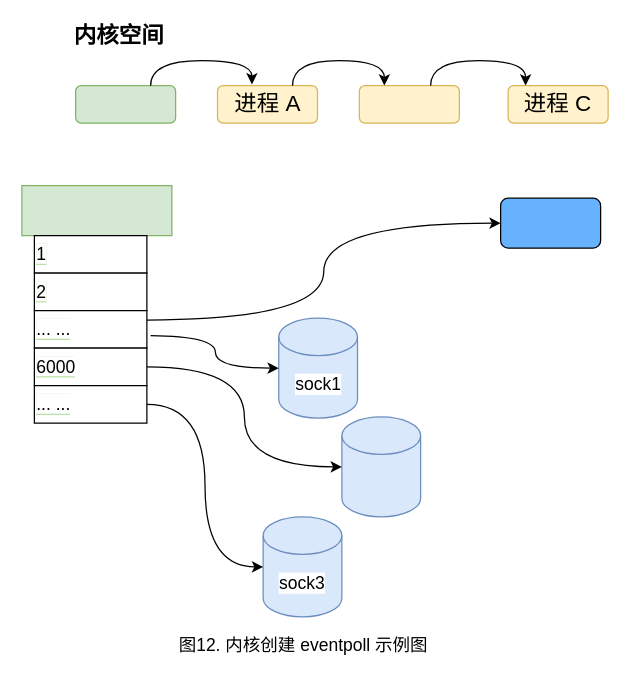
Image size: 630x685. Some labels were removed from this diagram. The centre of each missing label's shape, as x and y in pixels:
"eventpoll" goes at [550,222].
"sock2" goes at [381,466].
"工作队列" goes at [125,103].
"文件列表(fd)" goes at [96,210].
"进程 B" goes at [408,103].
